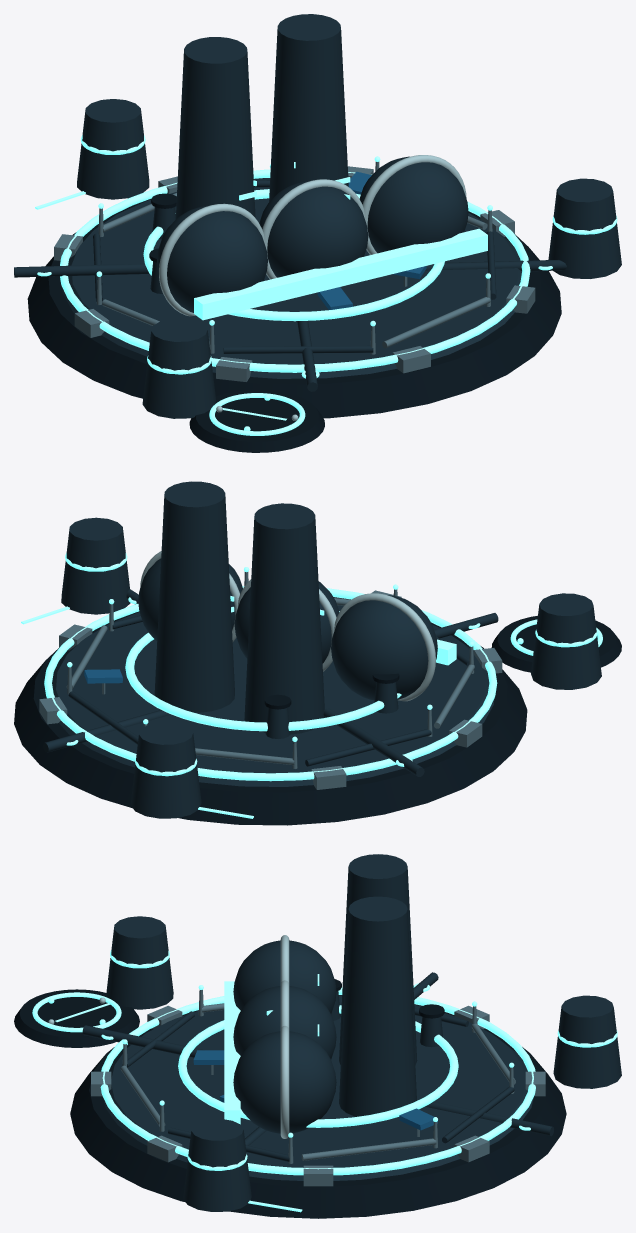
The model's file is deuteriumSynthesizer-stage2.glb.
The picture shows the model from 3 angles, top to bottom: view 1: azimuth 30°, elevation 25°; view 2: azimuth 150°, elevation 25°; view 3: azimuth 270°, elevation 25°; orthographic projection. The views are drawn at different scales.
Parts seen in each view (by area): view 1: upper-deck, cryogenic-tower (×2), pressure-vessel (×3), armored-foundation, fuel-conduit, refinery-annex-1, refinery-annex-2, refinery-annex-0, landing-pad, perimeter-light, vessel-brace (×3), detail (+9 smaller); view 2: cryogenic-tower (×2), upper-deck, armored-foundation, pressure-vessel (×3), refinery-annex-2, refinery-annex-1, refinery-annex-0, perimeter-light, detail, vessel-brace (×3), landing-pad, utility-conduit-2 (+13 smaller); view 3: upper-deck, armored-foundation, cryogenic-tower (×2), pressure-vessel (×3), refinery-annex-2, refinery-annex-0, refinery-annex-1, perimeter-light, landing-pad, detail, fuel-conduit, vessel-brace (+12 smaller).
Part boxes in pixels (x1,y1,x2,y2): upper-deck: (62, 178, 528, 378); cryogenic-tower (×2): (175, 14, 348, 219); pressure-vessel (×3): (157, 156, 468, 312); armored-foundation: (27, 178, 561, 418); fuel-conduit: (194, 228, 487, 320); refinery-annex-1: (142, 318, 216, 418); refinery-annex-2: (77, 99, 149, 199); refinery-annex-0: (548, 178, 621, 278); landing-pad: (189, 390, 324, 452); perimeter-light: (60, 169, 530, 372); vessel-brace (×3): (159, 155, 466, 316); detail: (143, 189, 444, 321); cryogenic-tower (×2): (154, 481, 324, 734); upper-deck: (46, 597, 494, 786); armored-foundation: (14, 597, 527, 825); pressure-vessel (×3): (138, 558, 437, 700); refinery-annex-2: (130, 722, 201, 818); refinery-annex-1: (531, 593, 601, 689); refinery-annex-0: (61, 517, 130, 614); perimeter-light: (44, 586, 497, 781); detail: (125, 611, 401, 731); vessel-brace (×3): (140, 551, 435, 701); landing-pad: (491, 615, 621, 672); utility-conduit-2: (323, 708, 424, 776); upper-deck: (103, 995, 533, 1180); armored-foundation: (70, 995, 566, 1218); cryogenic-tower (×2): (339, 854, 417, 1117); pressure-vessel (×3): (233, 940, 336, 1133); refinery-annex-2: (553, 995, 621, 1088); refinery-annex-0: (183, 1119, 251, 1211); refinery-annex-1: (106, 916, 173, 1009); perimeter-light: (100, 987, 535, 1175); landing-pad: (14, 989, 139, 1047); detail: (178, 1005, 458, 1127); fuel-conduit: (224, 981, 240, 1124); vessel-brace: (280, 1026, 289, 1138).
Size of the model in its own units: 10.7 by 4.86 by 11.84.
